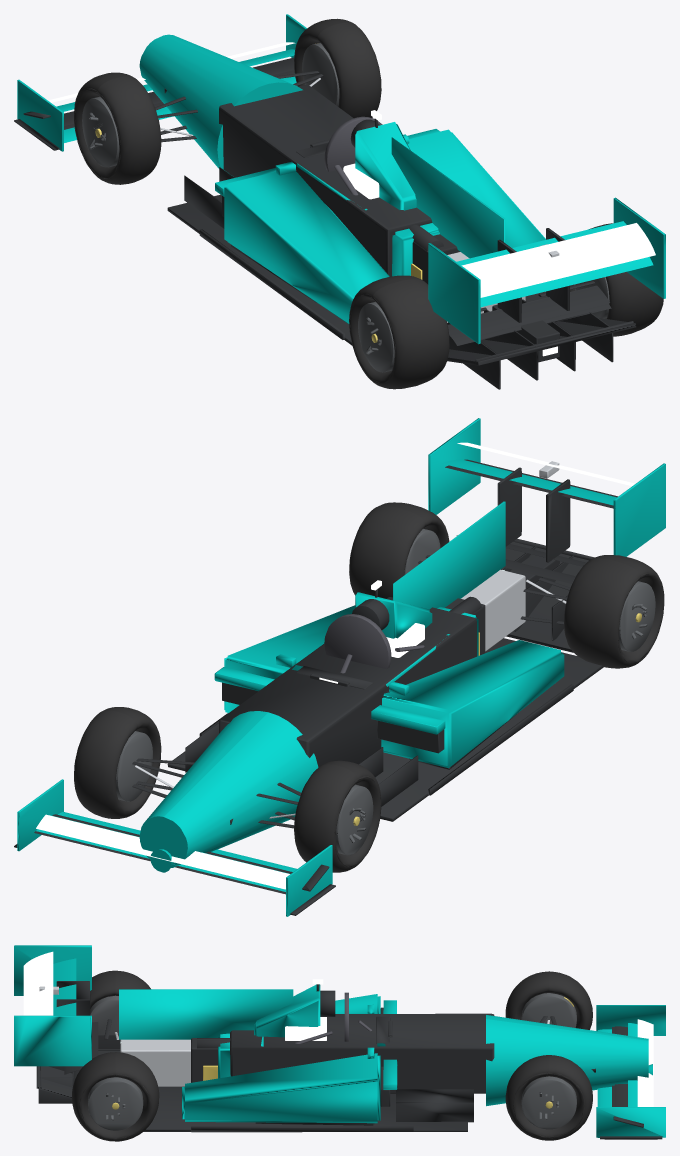
The model's file is complete-f1.glb.
3 renders of one model, top to bottom at view 1: azimuth 30°, elevation 25°; view 2: azimuth 150°, elevation 25°; view 3: azimuth 270°, elevation 25°, orthographic. The views are drawn at different scales.
Parts seen in each view (by area): view 1: F1_RearWing_CascadeDRS, F1_Sidepod_L_Downwash, F1_Monocoque_M55J, F1_Monocoque_T800, F1_Wheel_RL, F1_Nose_Wide, F1_Wheel_FL, F1_Wheel_FR, F1_Diffuser_QuadStrake, F1_Sidepod_R_Downwash, F1_FrontWing_Outwash4, F1_Wheel_RR (+6 smaller); view 2: F1_Nose_Wide, F1_Sidepod_L_Downwash, F1_Monocoque_M55J, F1_RearWing_CascadeDRS, F1_Monocoque_T800, F1_FrontWing_Outwash4, F1_Wheel_RL, F1_Wheel_FR, F1_Wheel_FL, F1_Wheel_RR, F1_Sidepod_R_Downwash, F1_Floor_QuadFence (+7 smaller); view 3: F1_Monocoque_M55J, F1_Sidepod_R_Downwash, F1_Monocoque_T800, F1_RearWing_CascadeDRS, F1_Nose_Wide, F1_Wheel_RR, F1_FrontWing_Outwash4, F1_Wheel_FR, F1_Floor_QuadFence, F1_Wheel_FL, F1_Floor_AntiPorpoise, F1_Gearbox_Carbon8 (+5 smaller).
Boxes of the visible parts, x1,y1,x2,y2 form: F1_RearWing_CascadeDRS: (428,197,665,345); F1_Sidepod_L_Downwash: (215,168,389,323); F1_Monocoque_M55J: (219,85,432,276); F1_Monocoque_T800: (275,110,505,276); F1_Wheel_RL: (349,275,449,389); F1_Nose_Wide: (139,34,302,176); F1_Wheel_FL: (74,72,161,184); F1_Wheel_FR: (294,18,381,118); F1_Diffuser_QuadStrake: (447,299,636,389); F1_Sidepod_R_Downwash: (407,129,545,247); F1_FrontWing_Outwash4: (14,14,306,151); F1_Wheel_RR: (570,223,663,336); F1_Nose_Wide: (139,711,318,867); F1_Sidepod_L_Downwash: (371,640,564,769); F1_Monocoque_M55J: (219,597,476,767); F1_RearWing_CascadeDRS: (428,418,665,583); F1_Monocoque_T800: (276,501,505,695); F1_FrontWing_Outwash4: (14,779,335,916); F1_Wheel_RL: (564,555,664,668); F1_Wheel_FR: (74,707,161,818); F1_Wheel_FL: (294,760,381,872); F1_Wheel_RR: (349,502,449,598); F1_Sidepod_R_Downwash: (214,605,355,713); F1_Floor_QuadFence: (167,652,603,821); F1_Monocoque_M55J: (230,1013,494,1093); F1_Sidepod_R_Downwash: (182,1053,397,1125); F1_Monocoque_T800: (119,979,390,1078); F1_RearWing_CascadeDRS: (14,945,98,1085); F1_Nose_Wide: (486,1015,648,1106); F1_Wheel_RR: (72,1052,159,1141); F1_FrontWing_Outwash4: (596,1005,665,1139); F1_Wheel_FR: (505,1055,592,1140); F1_Floor_QuadFence: (146,1089,473,1132); F1_Wheel_FL: (505,971,592,1029); F1_Floor_AntiPorpoise: (143,1087,467,1131); F1_Gearbox_Carbon8: (98,1039,190,1086).
Size of the model in its own units: 2.13 by 1.12 by 5.41.
